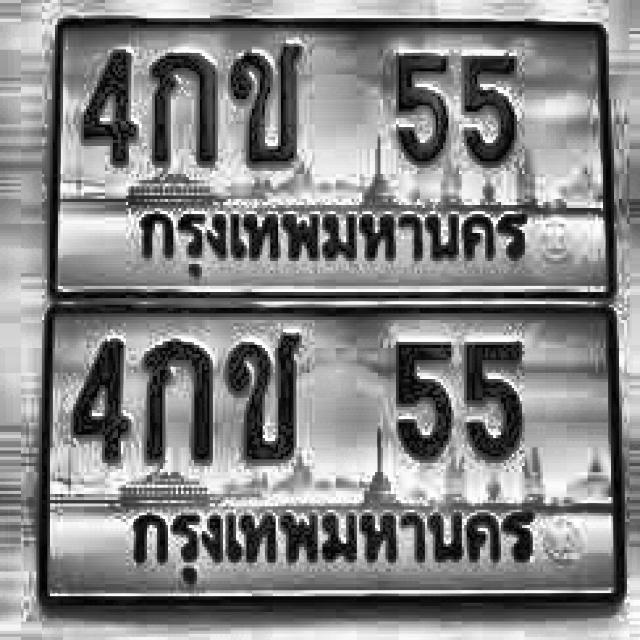license-plate: (42, 304, 633, 615), (47, 5, 621, 302)
